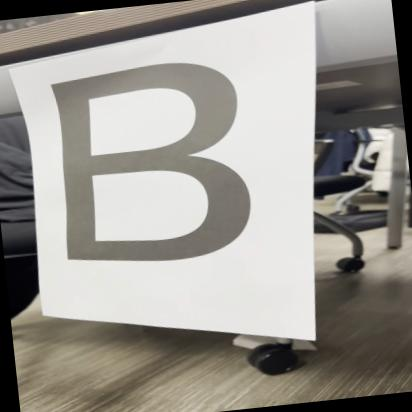seat: (39, 45, 302, 276)
